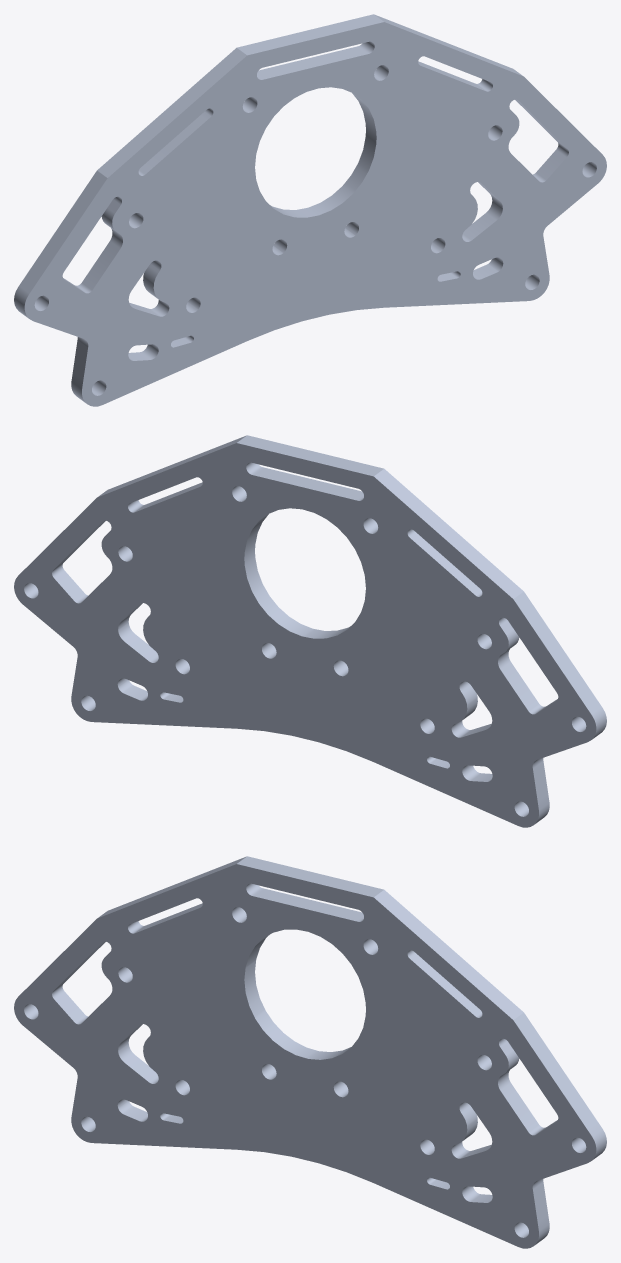
The model's file is Rocker_Connection_Plate_Cleaned_1.dae.
The picture shows the model from 3 angles, top to bottom: view 1: azimuth 30°, elevation 25°; view 2: azimuth 150°, elevation 25°; view 3: azimuth 330°, elevation 25°; orthographic projection.
Visible parts, largest first — view 1: node0; view 2: node0; view 3: node0.
Boxes of the visible parts, x1,y1,x2,y2 form: node0: (14,14,606,406); node0: (14,435,606,827); node0: (14,856,606,1248).
Bounding box in the file's own units: 0.2012 × 0.1039 × 0.00635.
